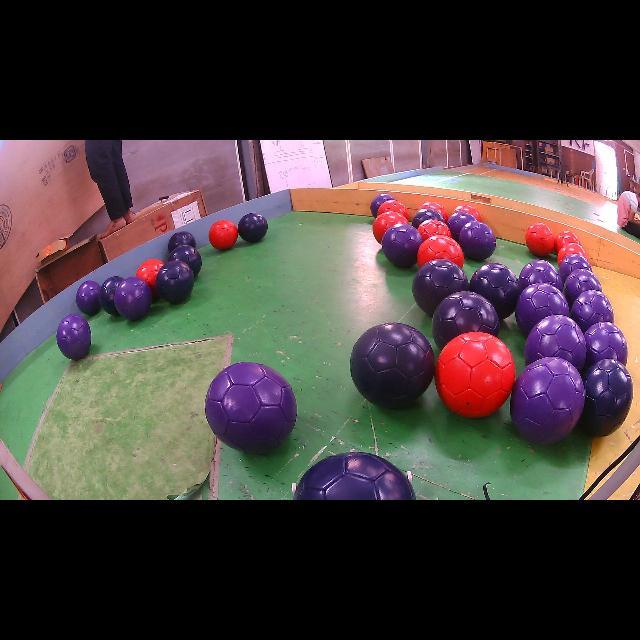B: (350, 322, 435, 409), (291, 452, 415, 500), (579, 359, 632, 436), (431, 291, 500, 349), (412, 259, 469, 316), (469, 262, 520, 320), (155, 260, 194, 304), (168, 245, 201, 276), (99, 276, 124, 316), (238, 212, 268, 242), (168, 231, 196, 252)
P: (205, 362, 296, 454), (510, 356, 585, 445), (525, 315, 586, 371), (515, 282, 569, 335), (584, 321, 628, 369), (381, 224, 424, 268), (570, 290, 614, 332), (114, 276, 151, 321), (56, 314, 91, 360), (564, 269, 602, 308), (459, 221, 496, 261), (519, 259, 564, 291), (559, 254, 592, 282), (446, 211, 476, 241), (76, 280, 101, 315), (411, 209, 445, 229), (370, 194, 395, 218)
